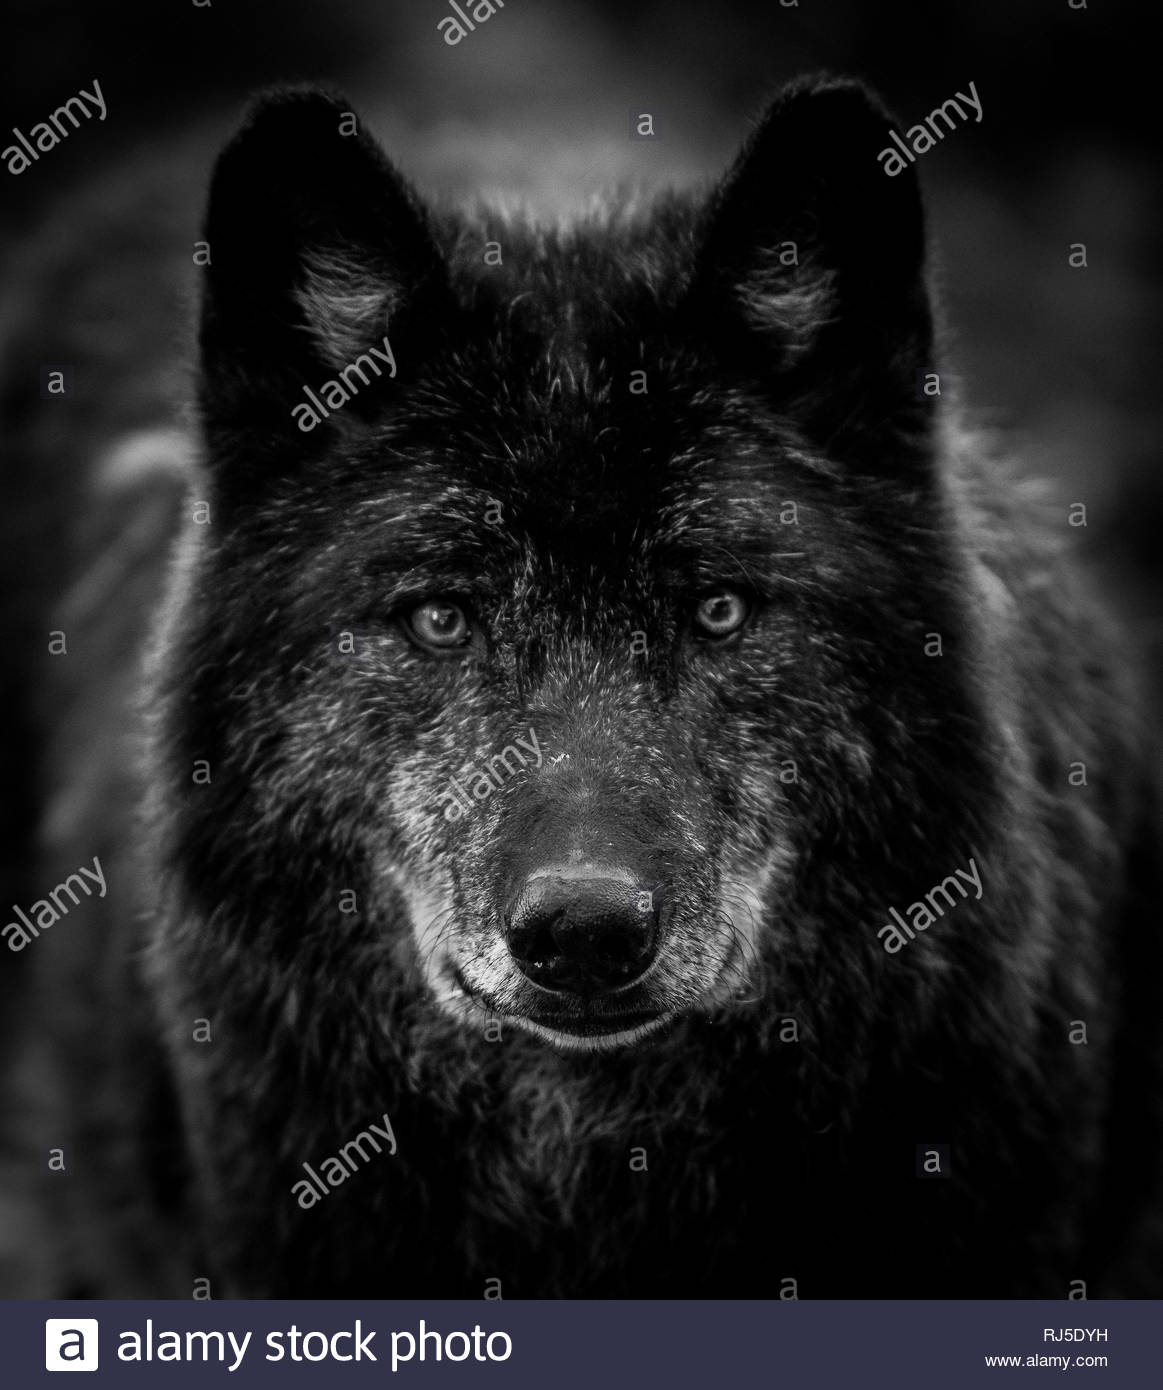Lobo: (82, 44, 987, 1136)
